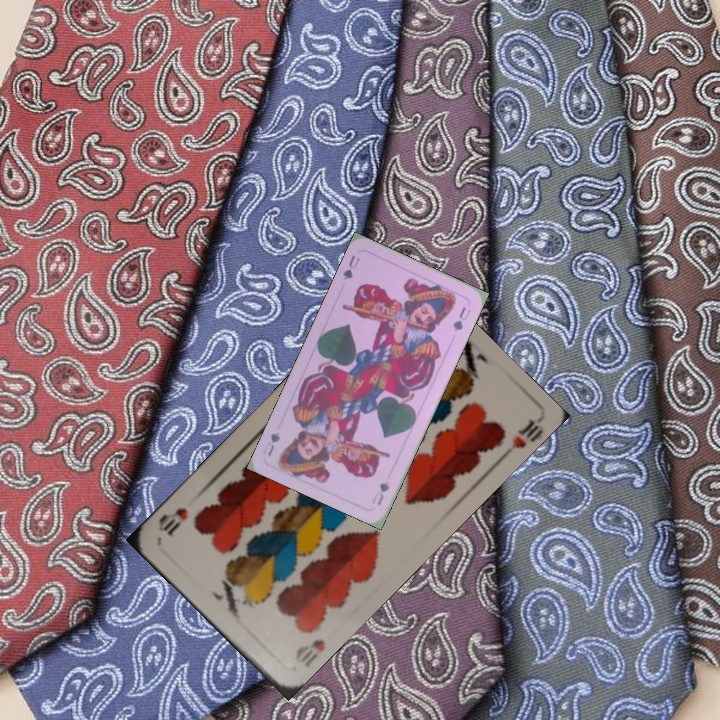GU: (339, 251, 363, 282), (368, 478, 392, 508)
H10: (290, 635, 328, 669)
